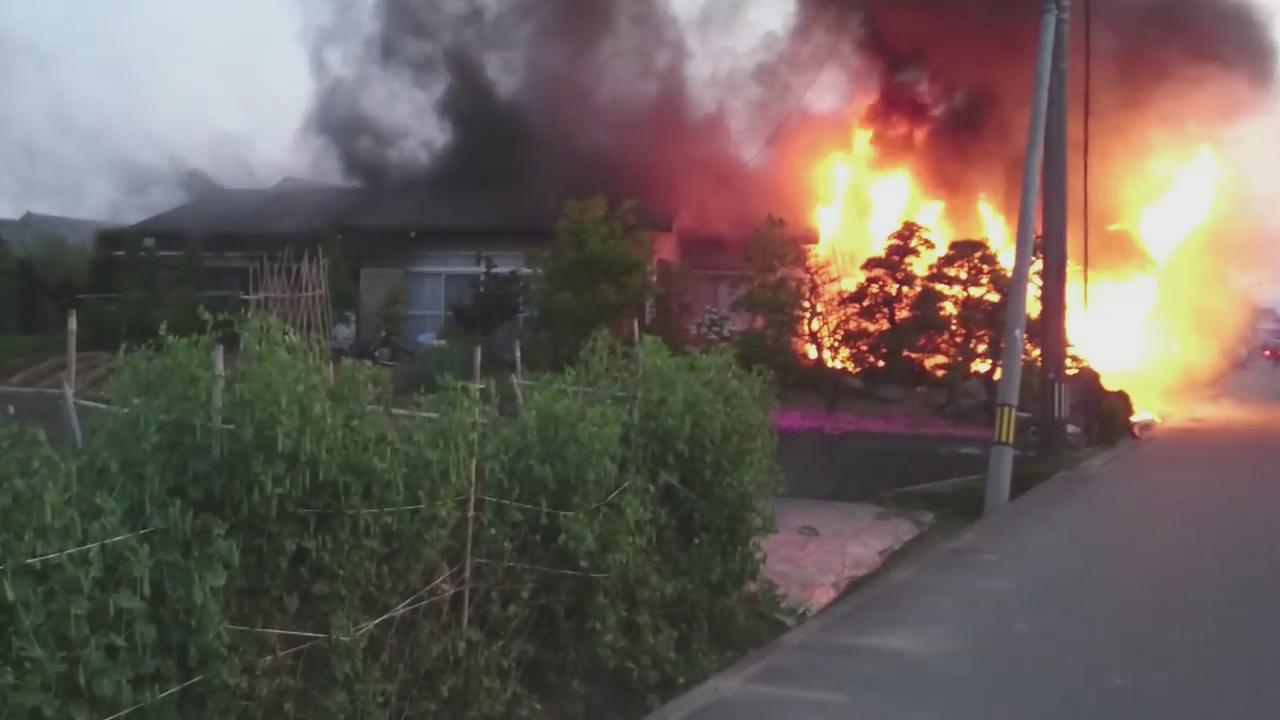Fire: (1067, 131, 1253, 428), (793, 130, 1015, 319), (800, 302, 858, 374), (964, 337, 1004, 382), (1024, 258, 1049, 320), (899, 350, 951, 378), (1021, 334, 1044, 368)
